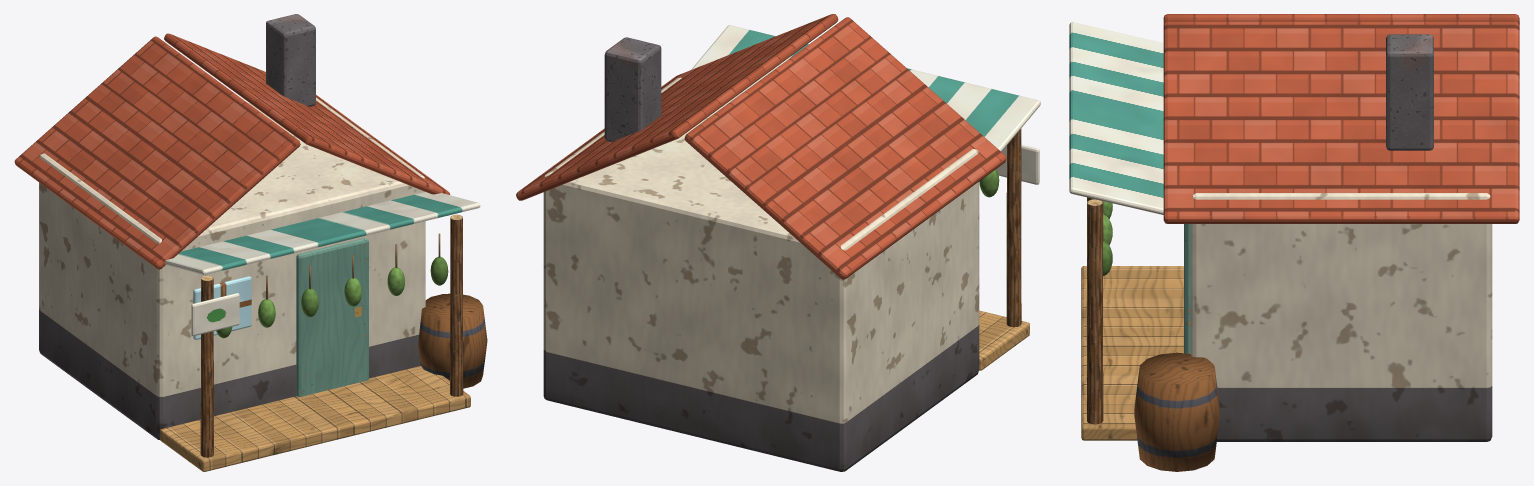
The model's file is clinic.glb.
3 renders of one model, left to right at view 1: azimuth 30°, elevation 25°; view 2: azimuth 150°, elevation 25°; view 3: azimuth 270°, elevation 25°, orthographic. The views are drawn at different scales.
Parts seen in each view (by area): view 1: Clinic; view 2: Clinic; view 3: Clinic.
Boxes of the visible parts, left/top/right/bottom form: Clinic: left=14, top=14, right=487, bottom=471; Clinic: left=516, top=14, right=1040, bottom=471; Clinic: left=1069, top=14, right=1519, bottom=471.
Bounding box in the file's own units: 3.45 × 3 × 3.29.
Materials: 1 (1 with a texture image).
